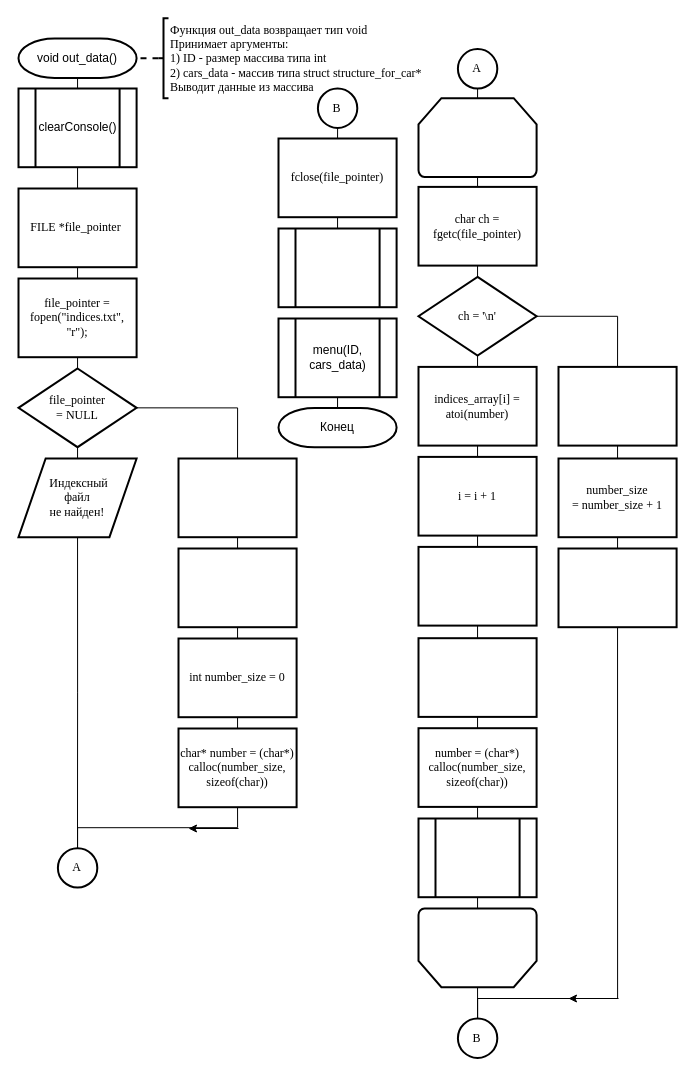
This 695x1076 diagram has some shape labels left out. Each missing label, with the centre of its shape:
!feof(file_pointer): point (477, 137)
free(number): point (477, 585)
int i = 0: point (237, 497)
int* indices_array = (int*) calloc(ID, sizeof(int)): point (237, 587)
number = (char*) realloc(number, number_size * sizeof(char)): point (617, 587)
number[number_size] = ch: point (617, 405)
number_size = 0: point (477, 677)
pause _console(): point (337, 267)
write_table(ID, cars_data, i, indices_array): point (477, 857)
Конец цикла: point (477, 947)
